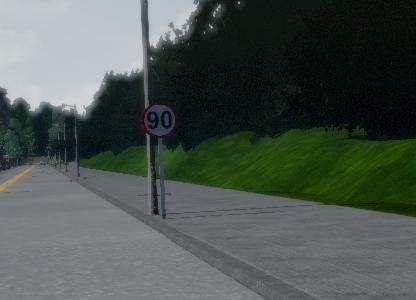Speed_90: (138, 101, 180, 141)
